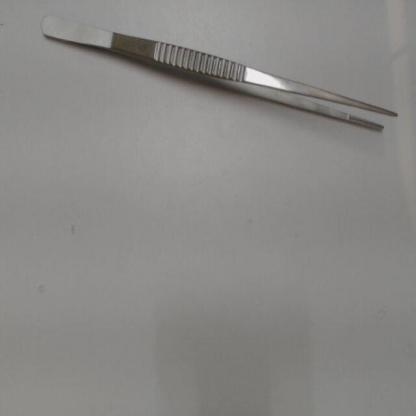DeBakey Dissector: (25, 7, 406, 165)
